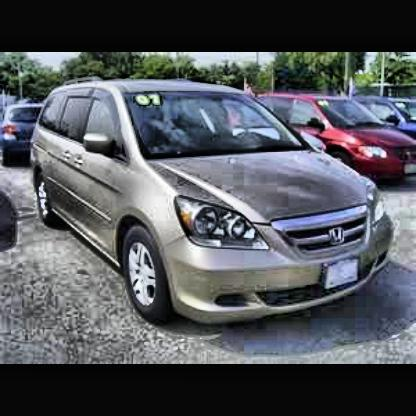Honda Odyssey Minivan 2007: (26, 75, 400, 331)
